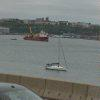Boat: (42, 62, 69, 74)
